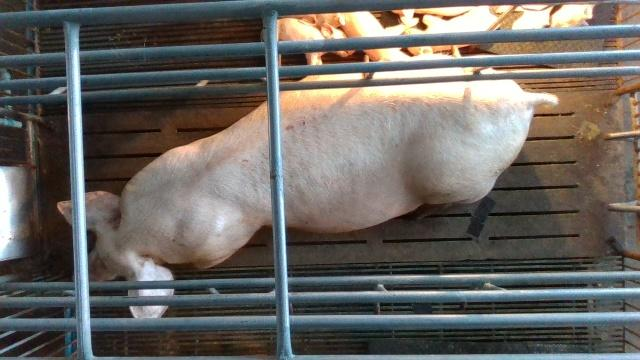piglet: (403, 6, 500, 55), (260, 19, 355, 65), (344, 12, 408, 60)
sow-sit: (59, 55, 560, 318)
